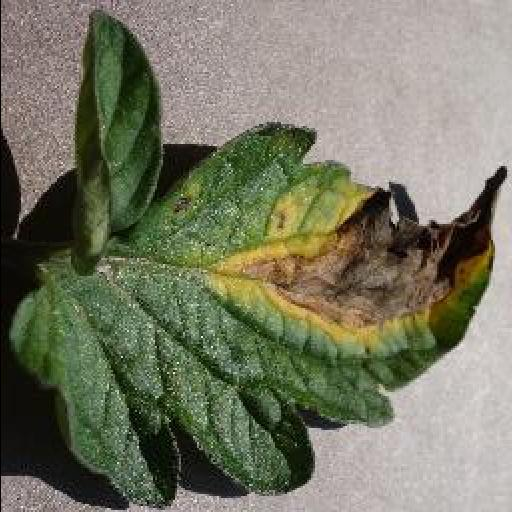Early Blight: (0, 119, 504, 512)
